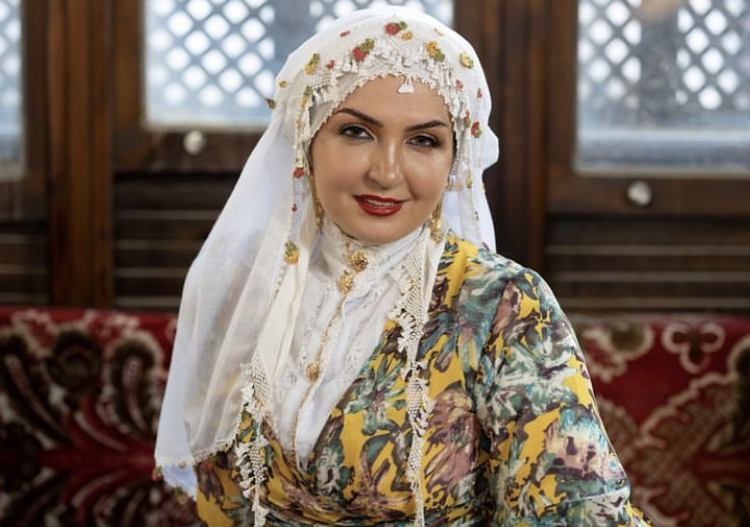Saudi_Founding_Day: (150, 4, 650, 527)
